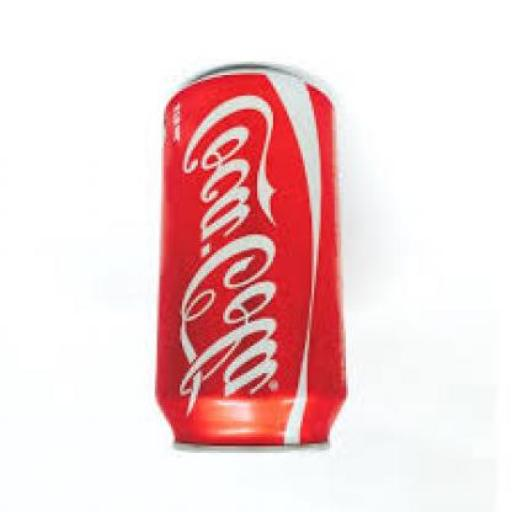metal: (153, 68, 348, 455)
